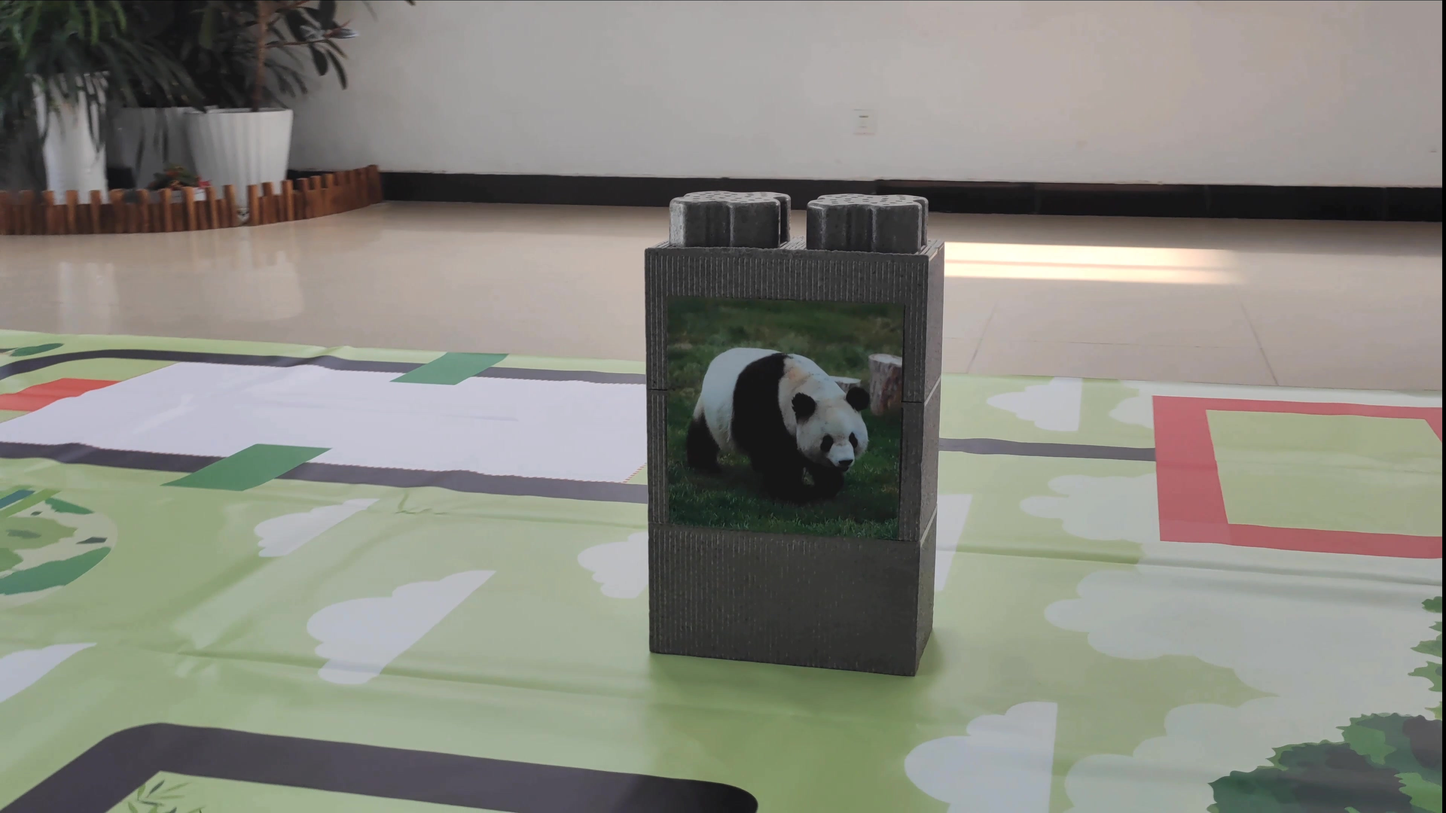panda: (680, 325, 883, 515)
